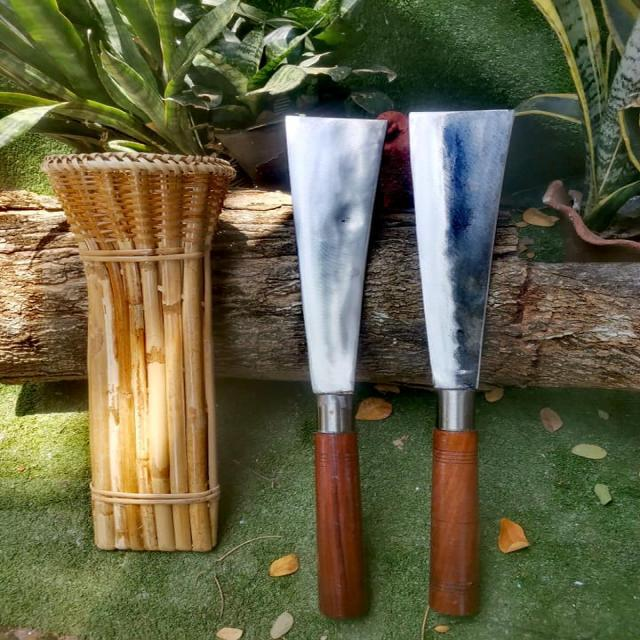eto: (401, 106, 523, 623), (275, 111, 395, 622)
